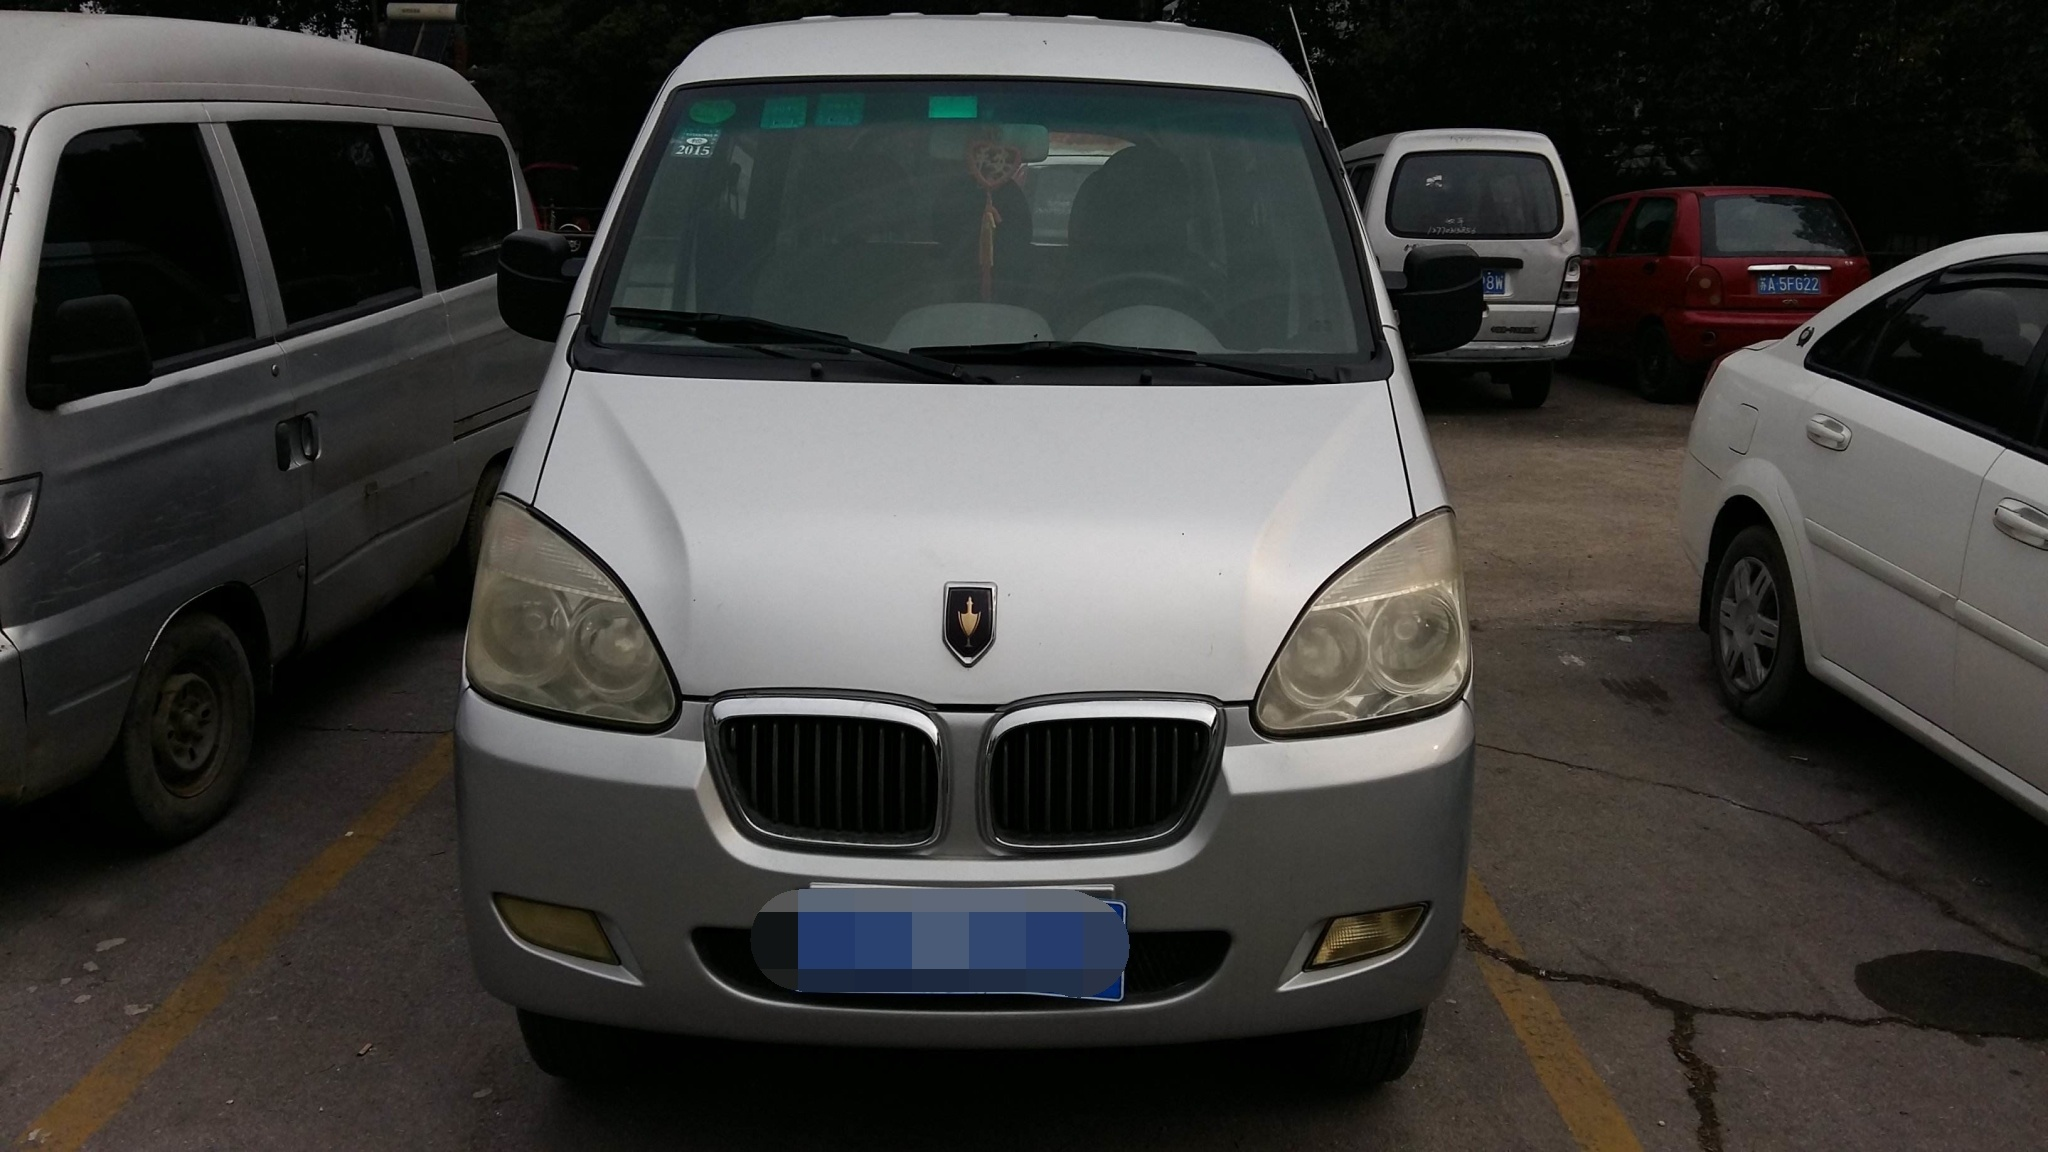minibus: (449, 3, 1478, 1122)
